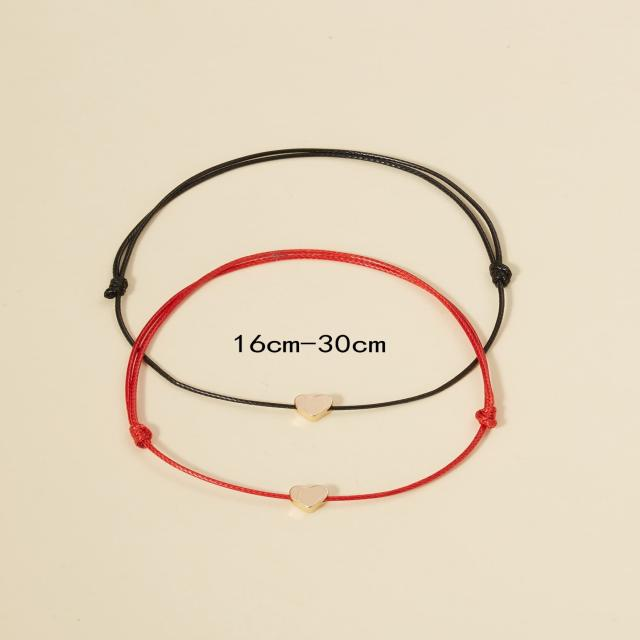bracelet: (77, 111, 628, 532)
